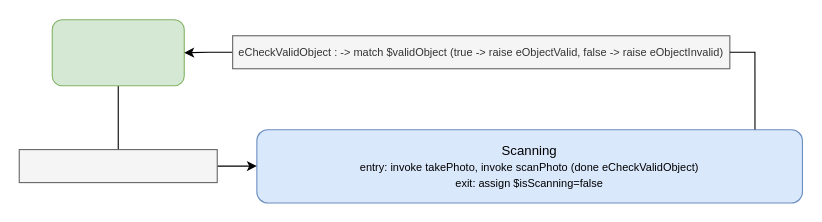
This 822x222 diagram has some shape labels left out. Each missing label, with the centre of its shape:
"eStartScan: -> assign $isScanning=true" belongs at [117,165].
"Idle" belongs at [117,52].
